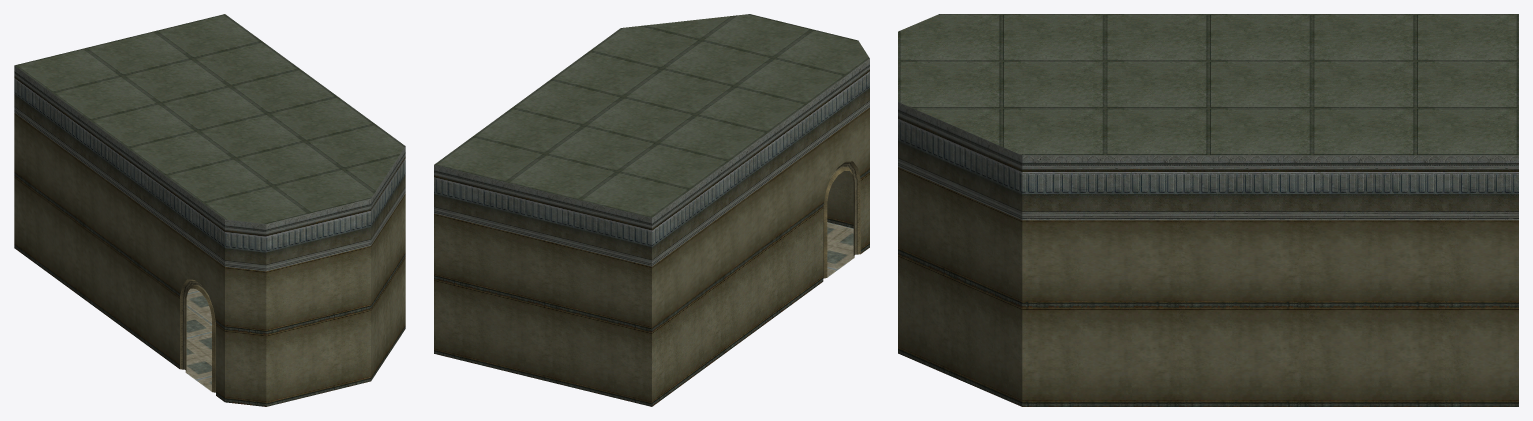
The model's file is mun_corl_hotel_s01_r8_mesh_meetingroom1.fbx.
3 views of the same model, side by side, from view 1: azimuth 30°, elevation 25°; view 2: azimuth 150°, elevation 25°; view 3: azimuth 270°, elevation 25° (orthographic). The views are drawn at different scales.
Visible parts, largest first — view 1: mesh_node; view 2: mesh_node; view 3: mesh_node.
Part boxes in pixels (box(x1,y1,x2,y2)): mesh_node: box(14, 14, 405, 406); mesh_node: box(434, 14, 869, 406); mesh_node: box(898, 14, 1518, 406).
Size of the model in its own units: 7.48 by 6.2 by 13.87.
